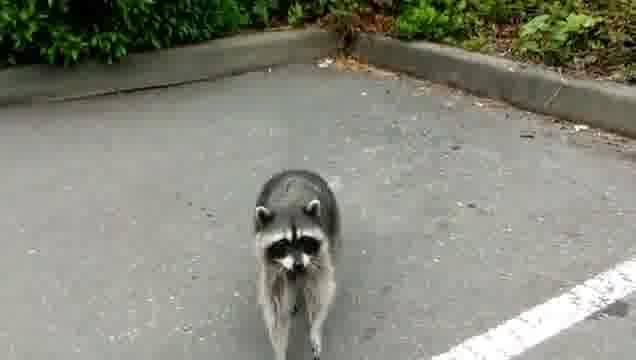raccoon: (252, 167, 342, 360)
